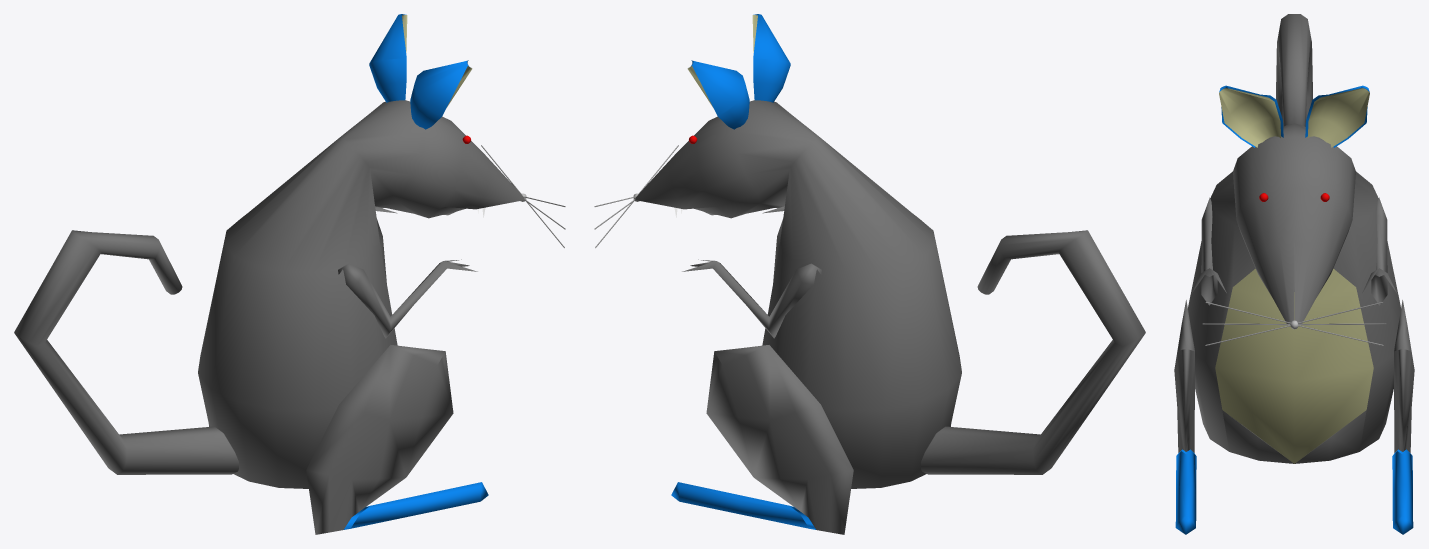
Rendered from rat.gltf.
3 renders of one model, left to right at view 1: azimuth 30°, elevation 25°; view 2: azimuth 150°, elevation 25°; view 3: azimuth 270°, elevation 25°, orthographic. The views are drawn at different scales.
Parts seen in each view (by area): view 1: Mesh; view 2: Mesh; view 3: Mesh.
Part boxes in pixels (<box>): Mesh: <box>14,14,565,534</box>; Mesh: <box>594,14,1145,534</box>; Mesh: <box>1174,14,1414,534</box>.
Size of the model in its own units: 0.6908 by 0.5463 by 0.266.
